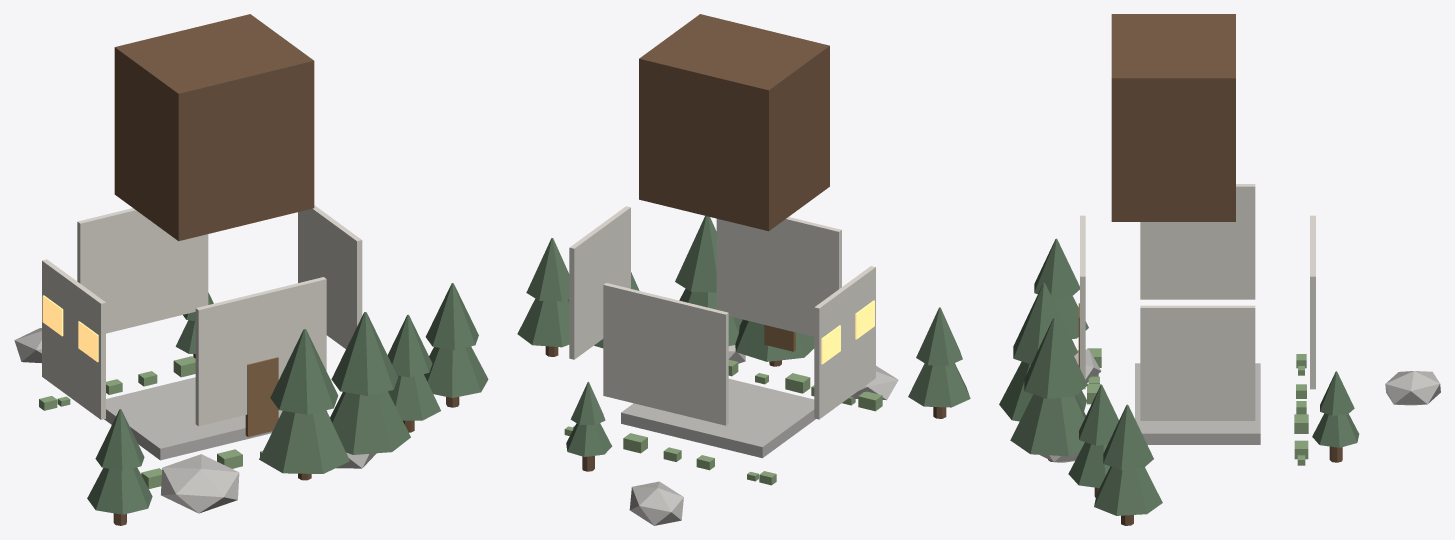
File: maison_001_v2.glb
The picture shows the model from 3 angles, left to right: view 1: azimuth 30°, elevation 25°; view 2: azimuth 150°, elevation 25°; view 3: azimuth 270°, elevation 25°; orthographic projection. The views are drawn at different scales.
Visible parts, largest first — view 1: maison; view 2: maison; view 3: maison.
Boxes of the visible parts, bbox=[...] form: maison: bbox=[14, 14, 488, 525]; maison: bbox=[517, 14, 970, 525]; maison: bbox=[999, 14, 1440, 525].
Size of the model in its own units: 5.01 by 4.38 by 4.61.
